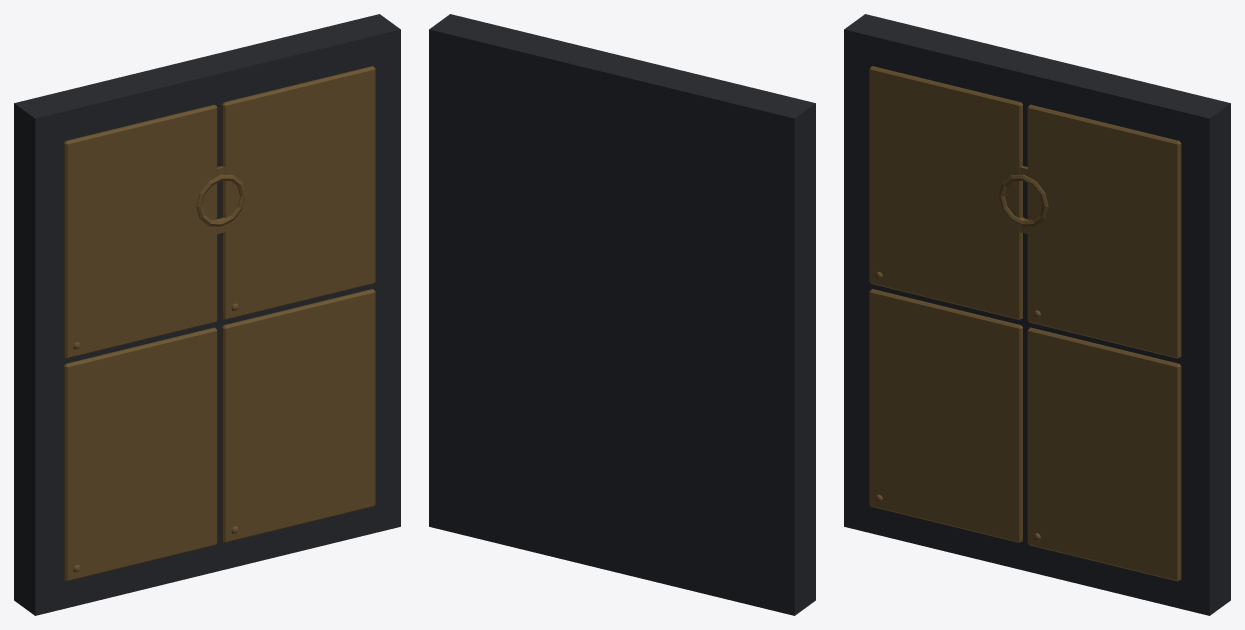
Rendered from SM_Wall_DvergrPlate_08_Straight.fbx.
The picture shows the model from 3 angles, left to right: view 1: azimuth 30°, elevation 25°; view 2: azimuth 150°, elevation 25°; view 3: azimuth 330°, elevation 25°; orthographic projection.
Parts seen in each view (by area): view 1: SM_Wall_DvergrPlate_08_Straight_Panel, SM_Wall_DvergrPlate_08_Straight_Plate0, SM_Wall_DvergrPlate_08_Straight_Plate1, SM_Wall_DvergrPlate_08_Straight_Plate2, SM_Wall_DvergrPlate_08_Straight_Plate3, SM_Wall_DvergrPlate_08_Straight_Gear; view 2: SM_Wall_DvergrPlate_08_Straight_Panel; view 3: SM_Wall_DvergrPlate_08_Straight_Panel, SM_Wall_DvergrPlate_08_Straight_Plate1, SM_Wall_DvergrPlate_08_Straight_Plate0, SM_Wall_DvergrPlate_08_Straight_Plate3, SM_Wall_DvergrPlate_08_Straight_Plate2, SM_Wall_DvergrPlate_08_Straight_Gear.
Part boxes in pixels (x1,y1,x2,y2): SM_Wall_DvergrPlate_08_Straight_Panel: [14, 14, 400, 615]; SM_Wall_DvergrPlate_08_Straight_Plate0: [63, 327, 217, 581]; SM_Wall_DvergrPlate_08_Straight_Plate1: [222, 289, 375, 542]; SM_Wall_DvergrPlate_08_Straight_Plate2: [63, 104, 217, 358]; SM_Wall_DvergrPlate_08_Straight_Plate3: [222, 66, 375, 319]; SM_Wall_DvergrPlate_08_Straight_Gear: [196, 174, 245, 226]; SM_Wall_DvergrPlate_08_Straight_Panel: [429, 14, 815, 615]; SM_Wall_DvergrPlate_08_Straight_Panel: [844, 14, 1230, 615]; SM_Wall_DvergrPlate_08_Straight_Plate1: [1027, 327, 1181, 581]; SM_Wall_DvergrPlate_08_Straight_Plate0: [869, 289, 1022, 542]; SM_Wall_DvergrPlate_08_Straight_Plate3: [1027, 104, 1181, 358]; SM_Wall_DvergrPlate_08_Straight_Plate2: [869, 66, 1022, 319]; SM_Wall_DvergrPlate_08_Straight_Gear: [999, 174, 1048, 226].
Size of the model in its own units: 2 by 2.6 by 0.243.
